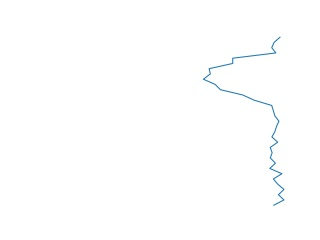distalBar: (199, 38, 290, 207)
